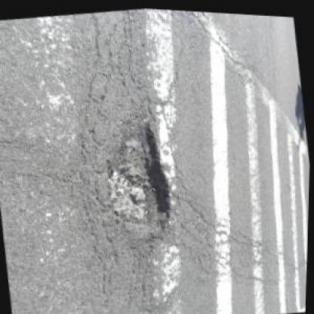Hueco: (93, 108, 183, 260)
